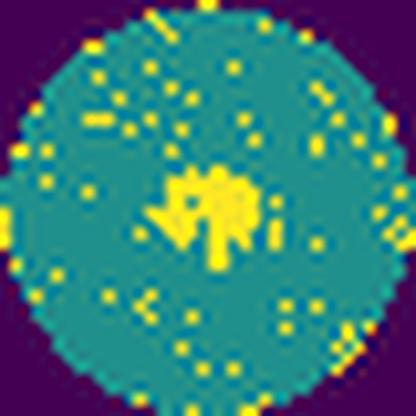Center: (146, 164, 265, 274)
